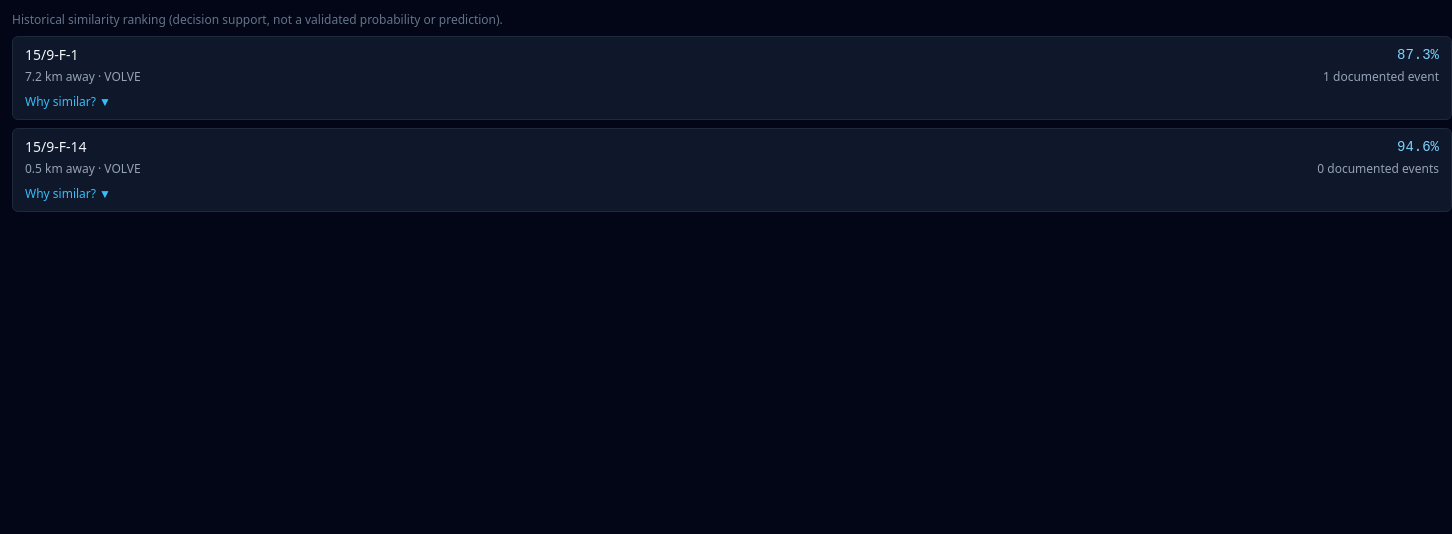
it: ComparableWellsPanel › reveals the factor breakdown from the backend's own data on click, without altering the ranking
Click the 1st button "Why similar? ▼" at (68, 102), box [25,94,111,110]
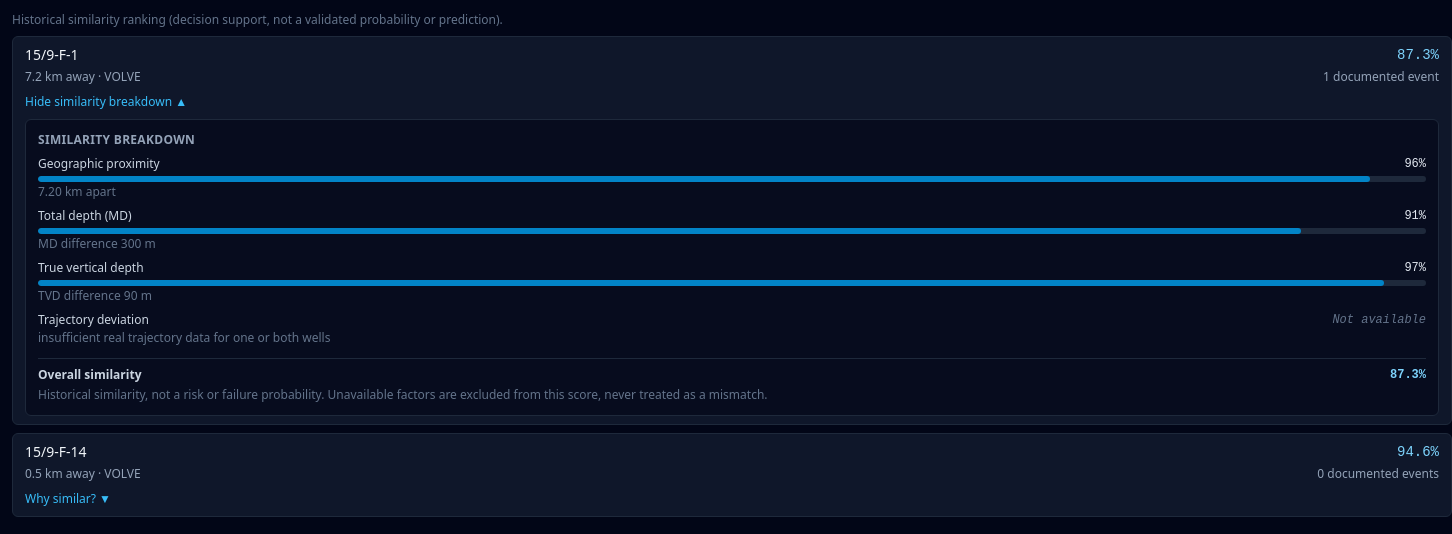
Check: the button named "why similar?" is expanded, box [25,94,187,110]
Check: the text "Similarity breakdown" is shown, box [38,131,195,148]
Check: the text "Geographic proximity" is shown, box [38,156,160,172]
